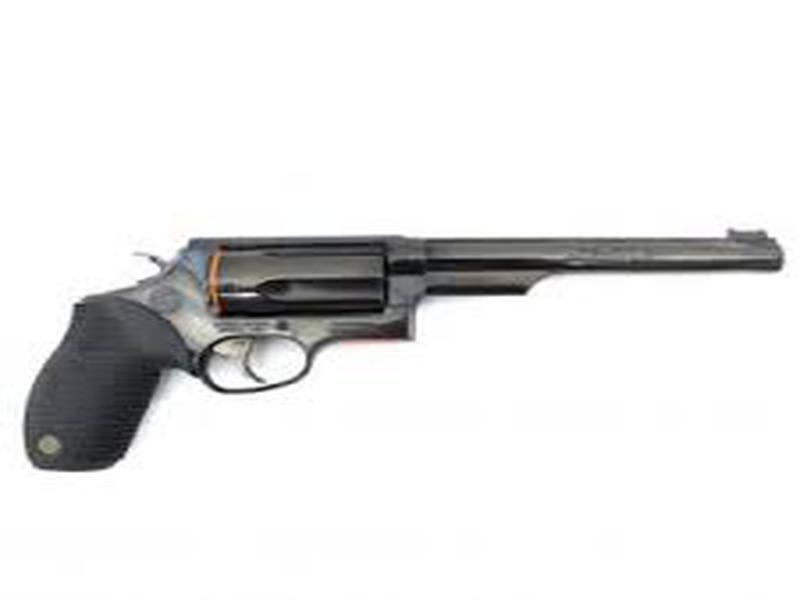gun: (23, 221, 793, 473)
